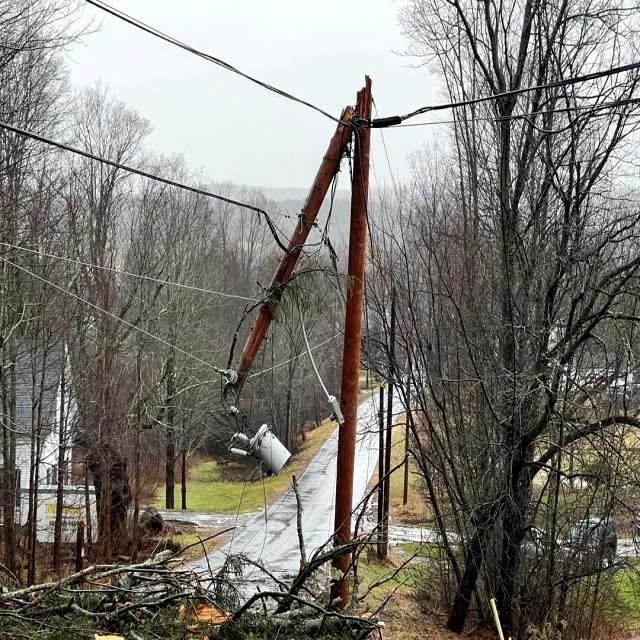Broken Pole: (223, 77, 375, 607)
